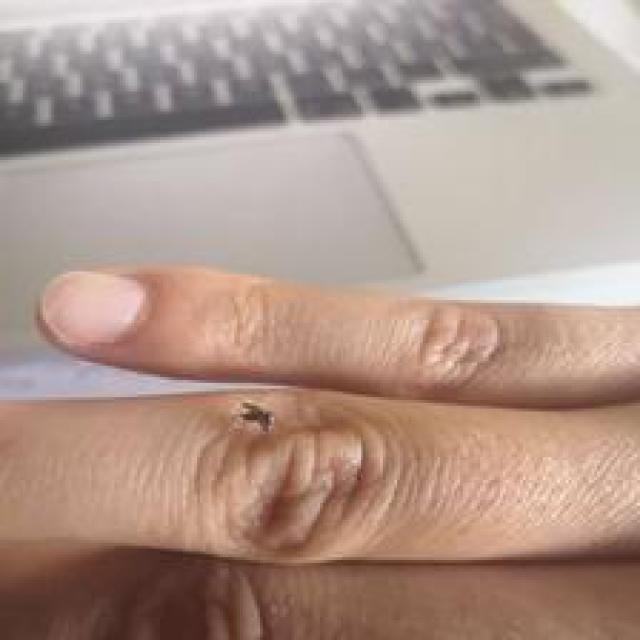Aedes albopictus: (233, 400, 276, 434)
